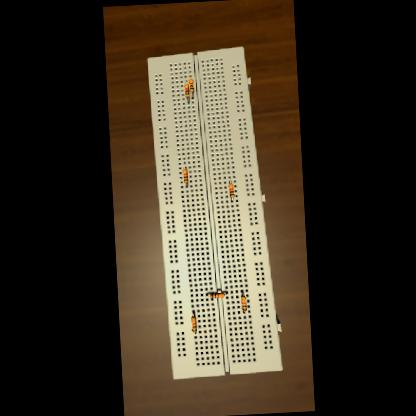breadboard: (145, 44, 282, 378)
resistor: (190, 315, 196, 331), (240, 294, 246, 310), (209, 292, 224, 298), (228, 182, 234, 196), (183, 82, 188, 96), (188, 78, 193, 92), (182, 168, 186, 180)
wire: (190, 90, 192, 96), (240, 288, 242, 294), (206, 292, 209, 295), (184, 181, 186, 185), (192, 309, 193, 315), (187, 96, 188, 102), (224, 291, 226, 294), (231, 197, 232, 201), (193, 331, 194, 333), (229, 180, 230, 182), (243, 310, 244, 312), (184, 166, 184, 166)
